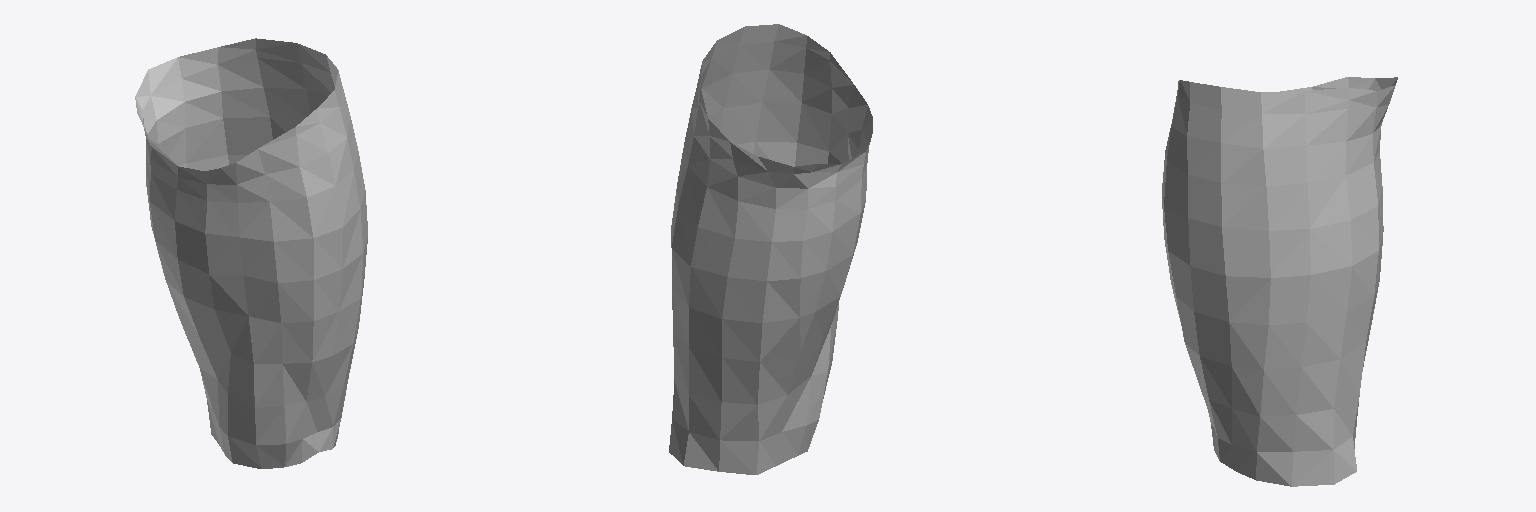
The model's file is RightLeg.obj.
3 views of the same model, side by side, from view 1: azimuth 30°, elevation 25°; view 2: azimuth 150°, elevation 25°; view 3: azimuth 270°, elevation 25° (orthographic).
Parts seen in each view (by area): view 1: Model001_22_legs_0_6_75_75_foot_leg ankle left polySurface1; view 2: Model001_22_legs_0_6_75_75_foot_leg ankle left polySurface1; view 3: Model001_22_legs_0_6_75_75_foot_leg ankle left polySurface1.
Boxes of the visible parts, box(x1,y1,x2,y2) form: Model001_22_legs_0_6_75_75_foot_leg ankle left polySurface1: box(135, 38, 367, 468); Model001_22_legs_0_6_75_75_foot_leg ankle left polySurface1: box(669, 24, 872, 474); Model001_22_legs_0_6_75_75_foot_leg ankle left polySurface1: box(1162, 77, 1397, 486).
Bounding box in the file's own units: 0.213 × 0.4431 × 0.2438.